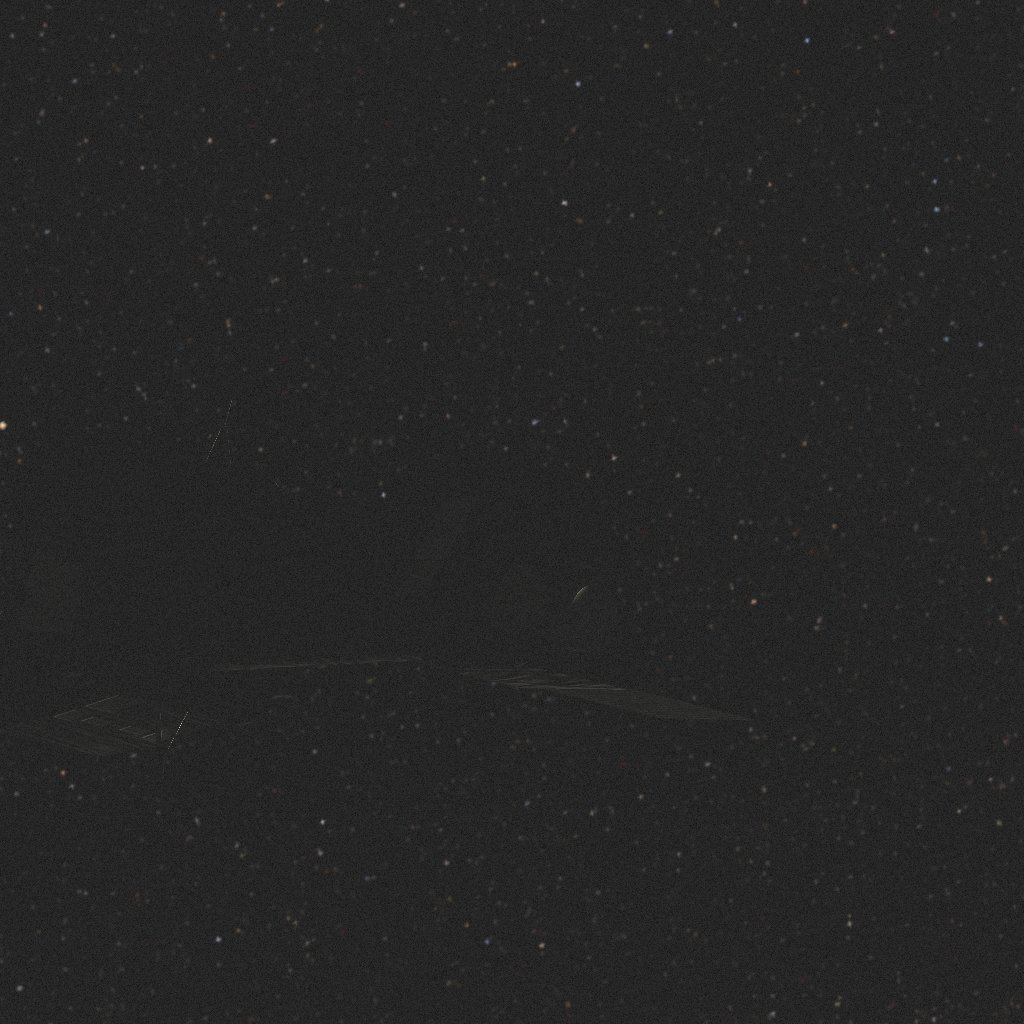xmm_newton: (0, 399, 762, 780)
